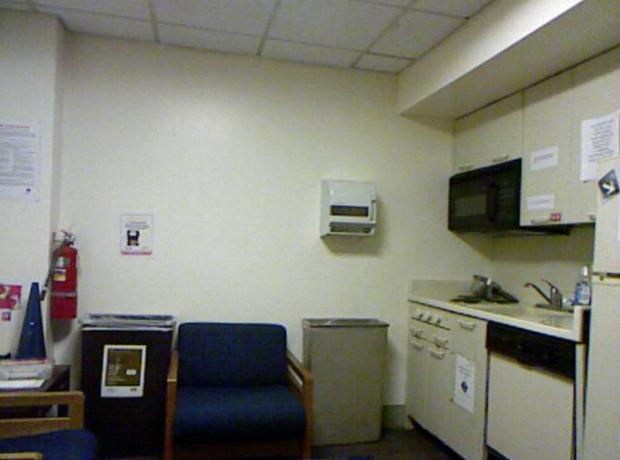Bote de Basura: (78, 313, 164, 450), (302, 315, 390, 446)
Electrodomestico: (482, 333, 579, 458)
Lavaplatos: (473, 278, 575, 327)
